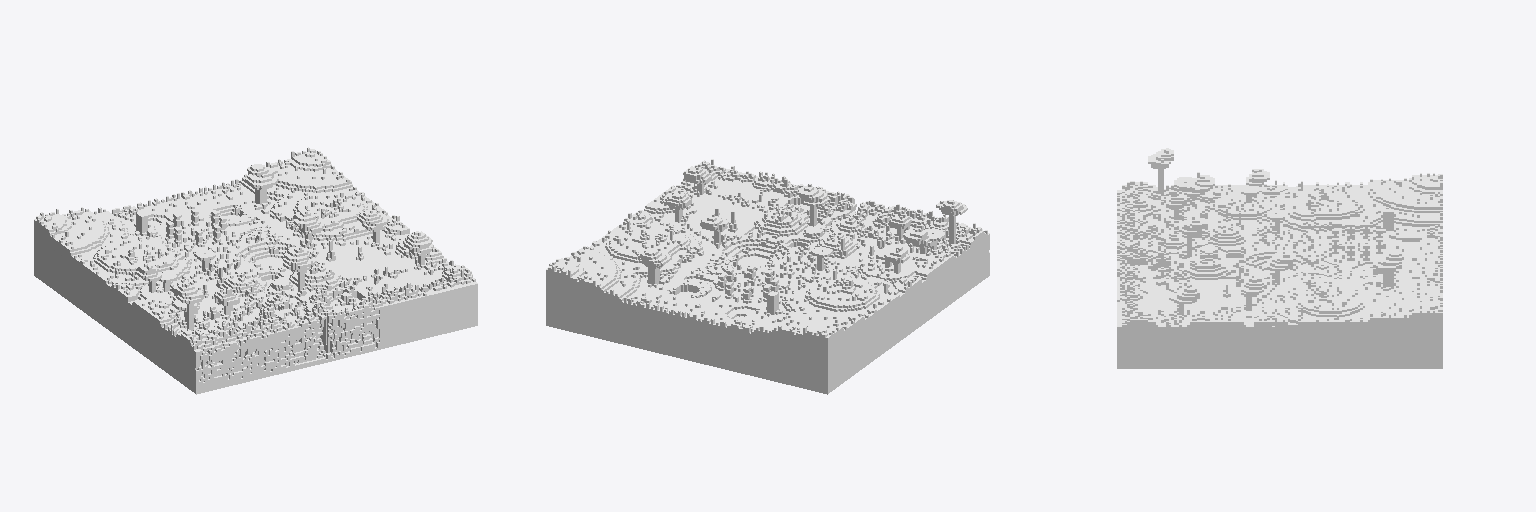
Rendered from orange-plains-center.obj.
3 renders of one model, left to right at view 1: azimuth 30°, elevation 25°; view 2: azimuth 150°, elevation 25°; view 3: azimuth 270°, elevation 25°, orthographic.
Parts seen in each view (by area): view 1: orange-plains-center; view 2: orange-plains-center; view 3: orange-plains-center.
Part boxes in pixels (bbox=[...]): orange-plains-center: bbox=[34, 147, 477, 394]; orange-plains-center: bbox=[546, 159, 989, 394]; orange-plains-center: bbox=[1117, 148, 1442, 368].
Bounding box in the file's own units: 126 × 38 × 126.